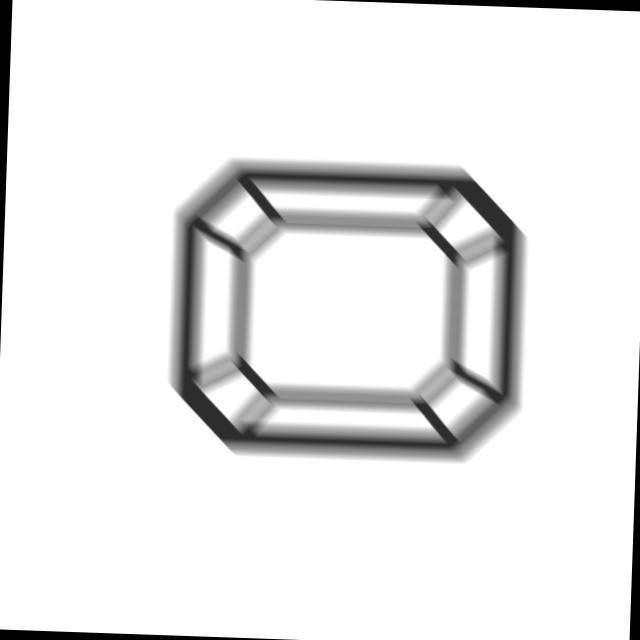emerald: (156, 148, 537, 475)
